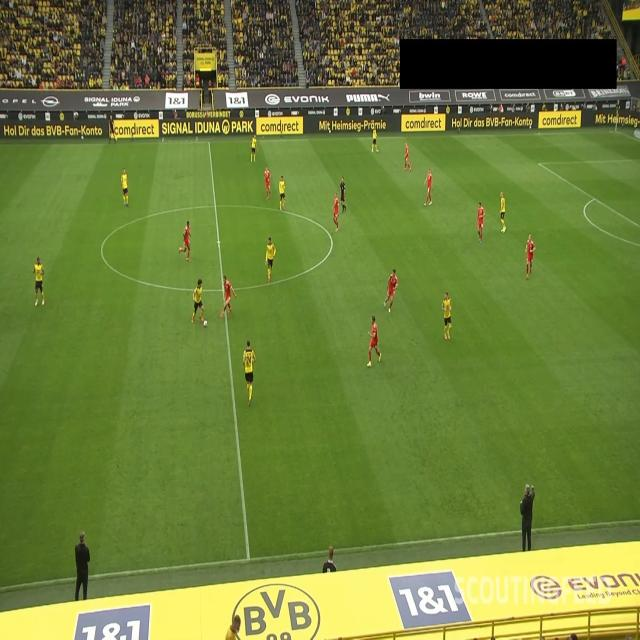ball: (203, 320, 208, 328)
